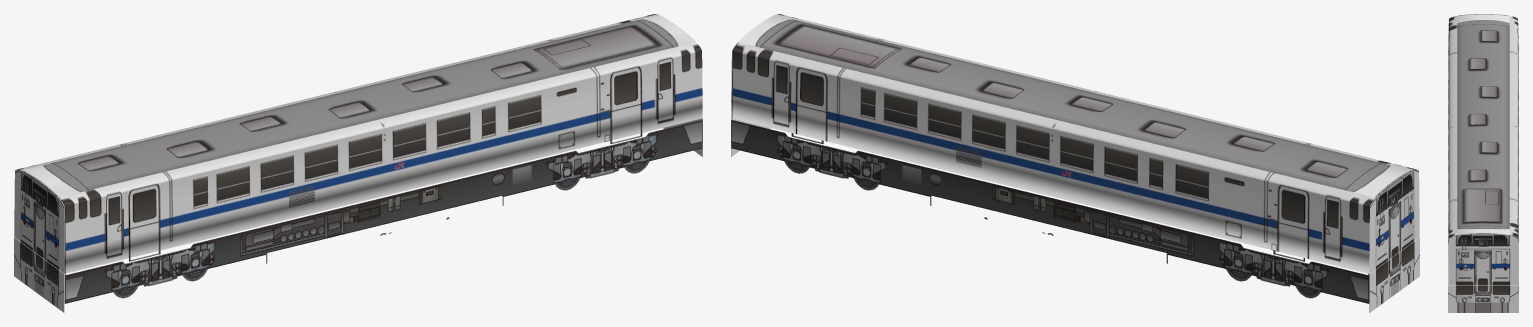
The model's file is car1.glb.
3 renders of one model, left to right at view 1: azimuth 30°, elevation 25°; view 2: azimuth 150°, elevation 25°; view 3: azimuth 270°, elevation 25°, orthographic. The views are drawn at different scales.
Visible parts, largest first — view 1: car1; view 2: car1; view 3: car1.
Boxes of the visible parts, x1,y1,x2,y2 form: car1: (14, 14, 702, 312); car1: (731, 14, 1419, 312); car1: (1448, 14, 1518, 312).
Bounding box in the file's own units: 21.33 × 3.6 × 2.9.
Materials: 8 (7 with a texture image).
